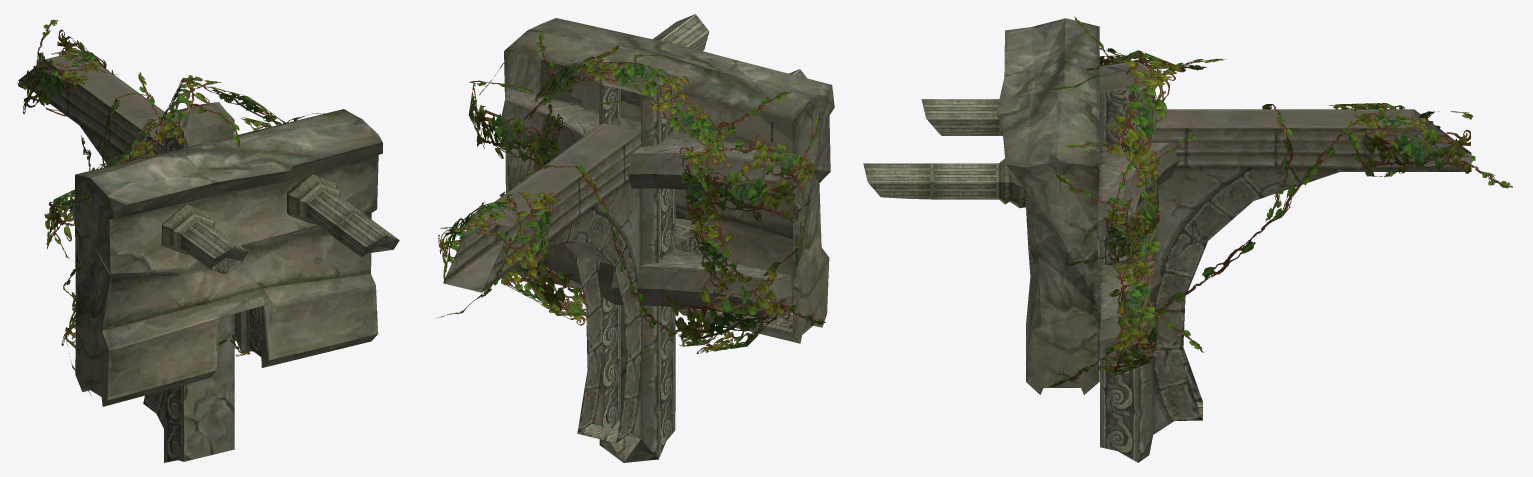
File: juqing_fuben_283_piaofu_02.obj
3 renders of one model, left to right at view 1: azimuth 30°, elevation 25°; view 2: azimuth 150°, elevation 25°; view 3: azimuth 270°, elevation 25°, orthographic. The views are drawn at different scales.
Parts seen in each view (by area): view 1: juqing_fuben_283_piaofu_02; view 2: juqing_fuben_283_piaofu_02; view 3: juqing_fuben_283_piaofu_02.
Part boxes in pixels (x1,y1,x2,y2): juqing_fuben_283_piaofu_02: [17, 19, 399, 462]; juqing_fuben_283_piaofu_02: [436, 14, 834, 462]; juqing_fuben_283_piaofu_02: [863, 16, 1512, 462].
Size of the model in its own units: 643 by 738 by 1081.
3 materials, 3 textured.
